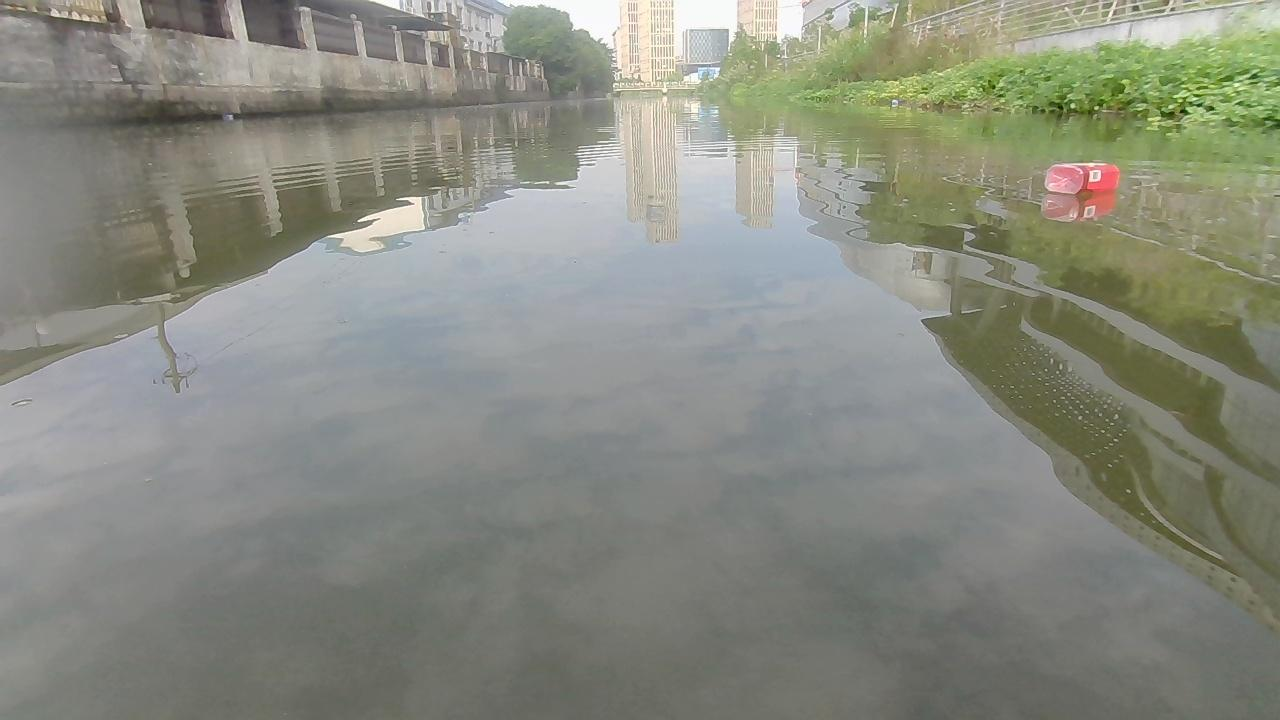bottle: (1041, 156, 1123, 199), (221, 109, 238, 120), (889, 99, 901, 112)
